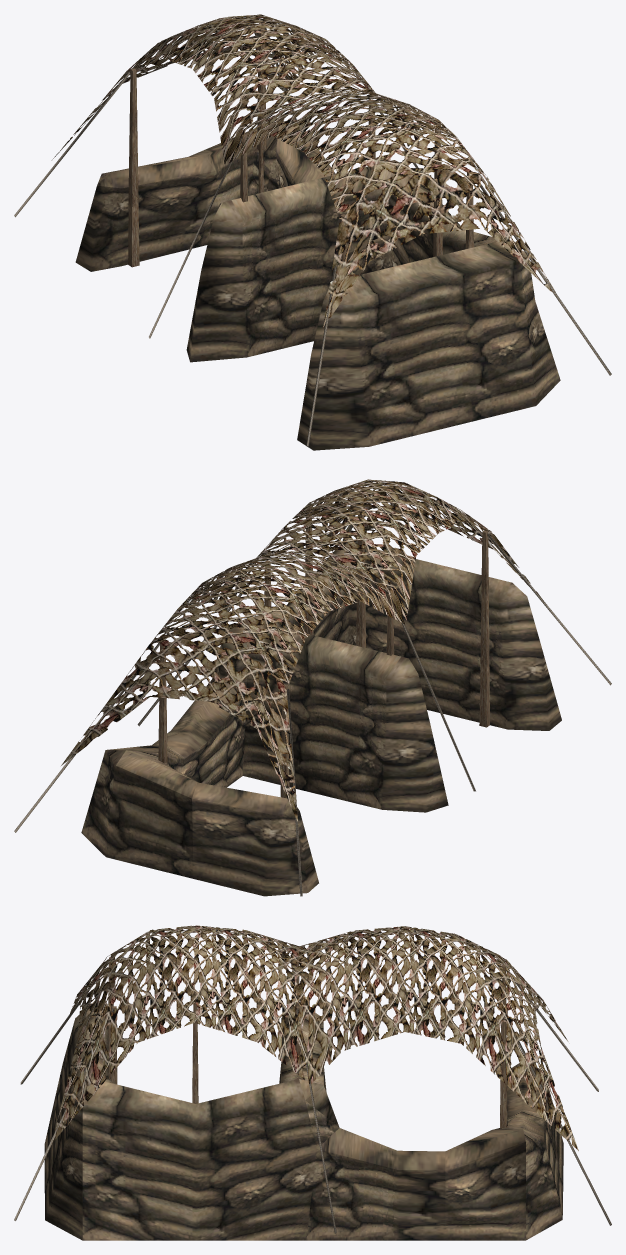
File: Bnkr05.glb
The picture shows the model from 3 angles, top to bottom: view 1: azimuth 30°, elevation 25°; view 2: azimuth 150°, elevation 25°; view 3: azimuth 270°, elevation 25°; orthographic projection. The views are drawn at different scales.
Visible parts, largest first — view 1: _Bnkr05; view 2: _Bnkr05; view 3: _Bnkr05.
Boxes of the visible parts, x1,y1,x2,y2 form: _Bnkr05: (14, 14, 611, 450); _Bnkr05: (14, 479, 611, 896); _Bnkr05: (14, 925, 611, 1240).
Bounding box in the file's own units: 4.39 × 3.25 × 7.22.
2 materials, 2 textured.
